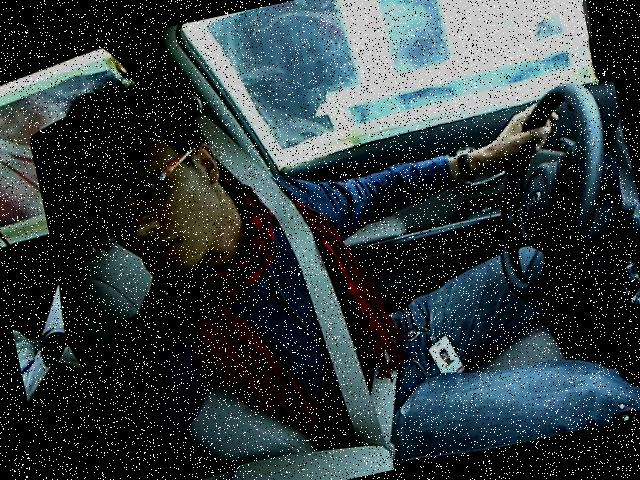c5 - Reaching Behind: (27, 0, 639, 479)
